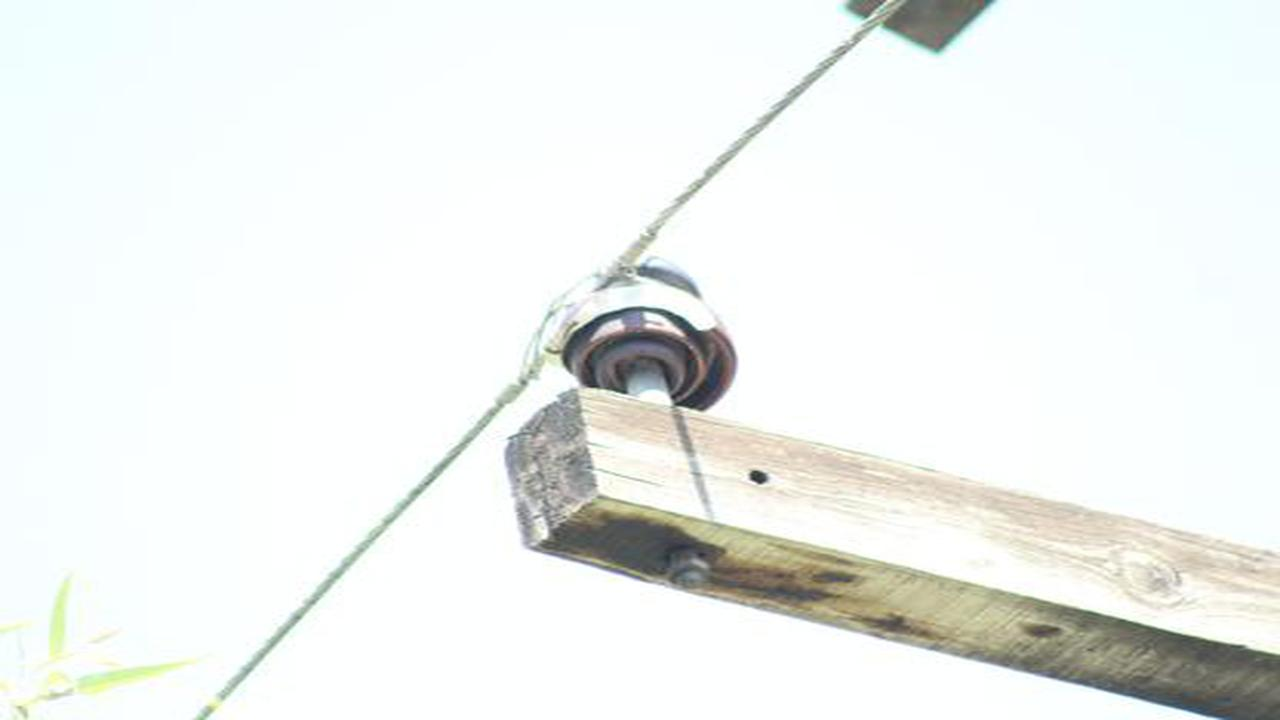defect_pin: (545, 255, 744, 418)
